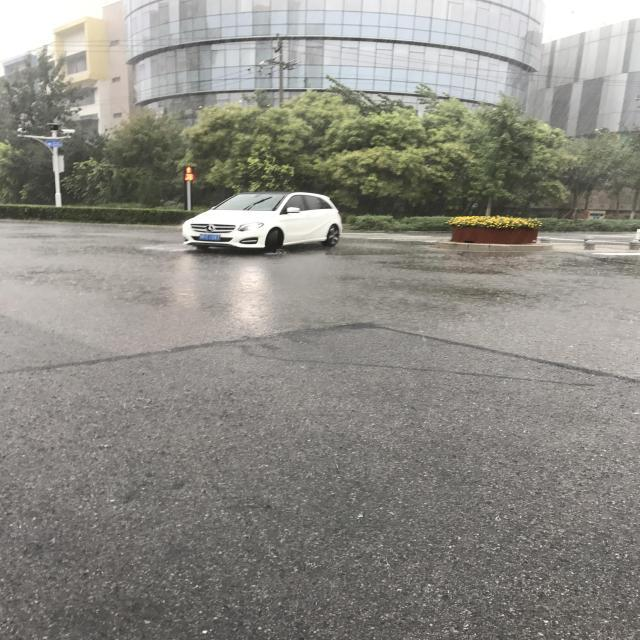car: (190, 296, 256, 460)
